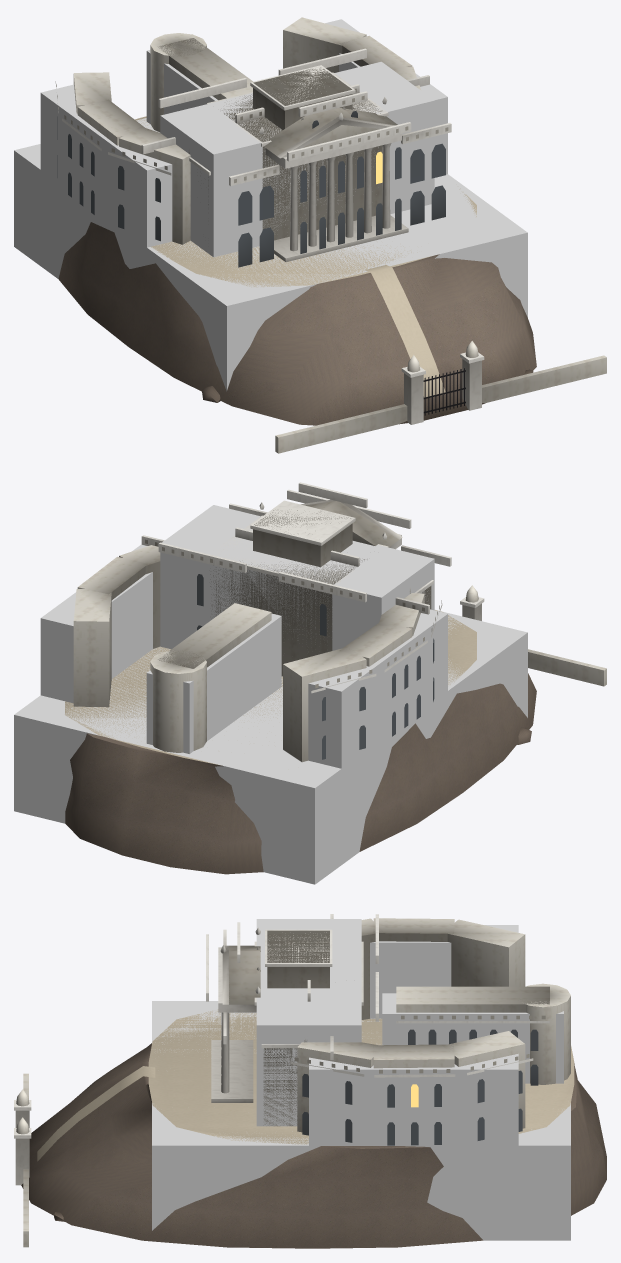
The model's file is falaknuma.glb.
The picture shows the model from 3 angles, top to bottom: view 1: azimuth 30°, elevation 25°; view 2: azimuth 150°, elevation 25°; view 3: azimuth 270°, elevation 25°; orthographic projection.
Visible parts, largest first — view 1: falaknuma_body, COL_falaknuma; view 2: falaknuma_body, COL_falaknuma; view 3: falaknuma_body, COL_falaknuma.
Boxes of the visible parts, x1,y1,x2,y2 form: falaknuma_body: (55,17,606,453); COL_falaknuma: (14,19,527,391); falaknuma_body: (65,482,606,874); COL_falaknuma: (14,505,527,884); falaknuma_body: (14,914,606,1248); COL_falaknuma: (152,919,570,1240).
Bounding box in the file's own units: 109 × 74.37 × 170.
Materials: 8 (8 with a texture image).
